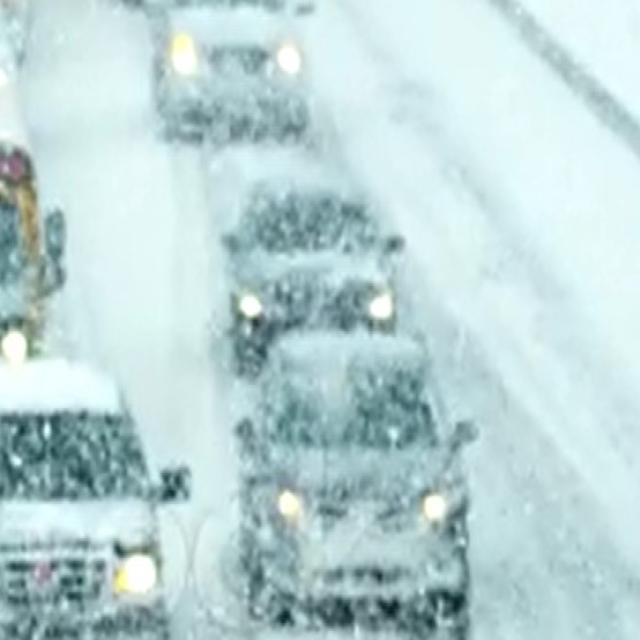bus: (0, 74, 66, 476)
car: (229, 335, 478, 640), (0, 348, 174, 640), (220, 168, 404, 363), (137, 0, 317, 151)
